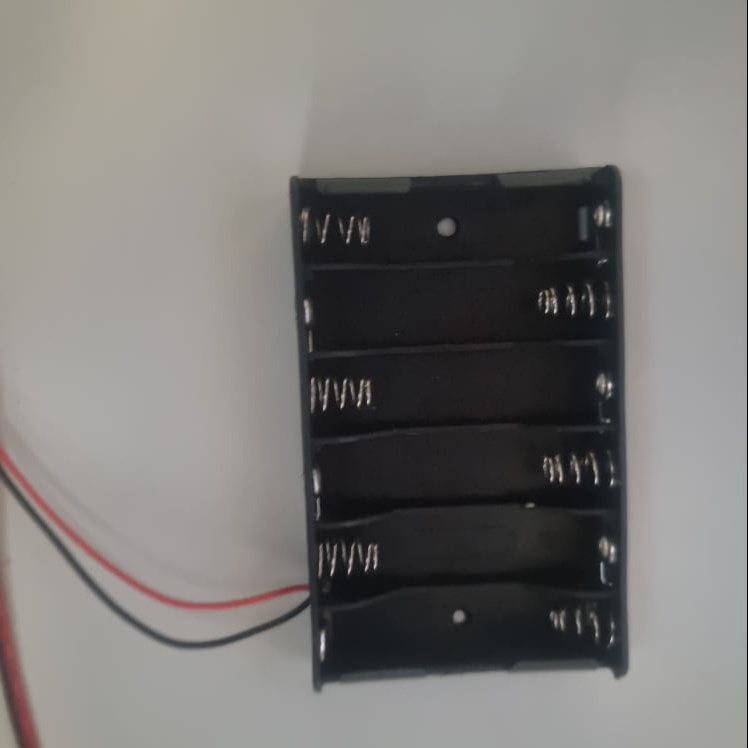BATTERY BOX: (291, 164, 628, 681)
